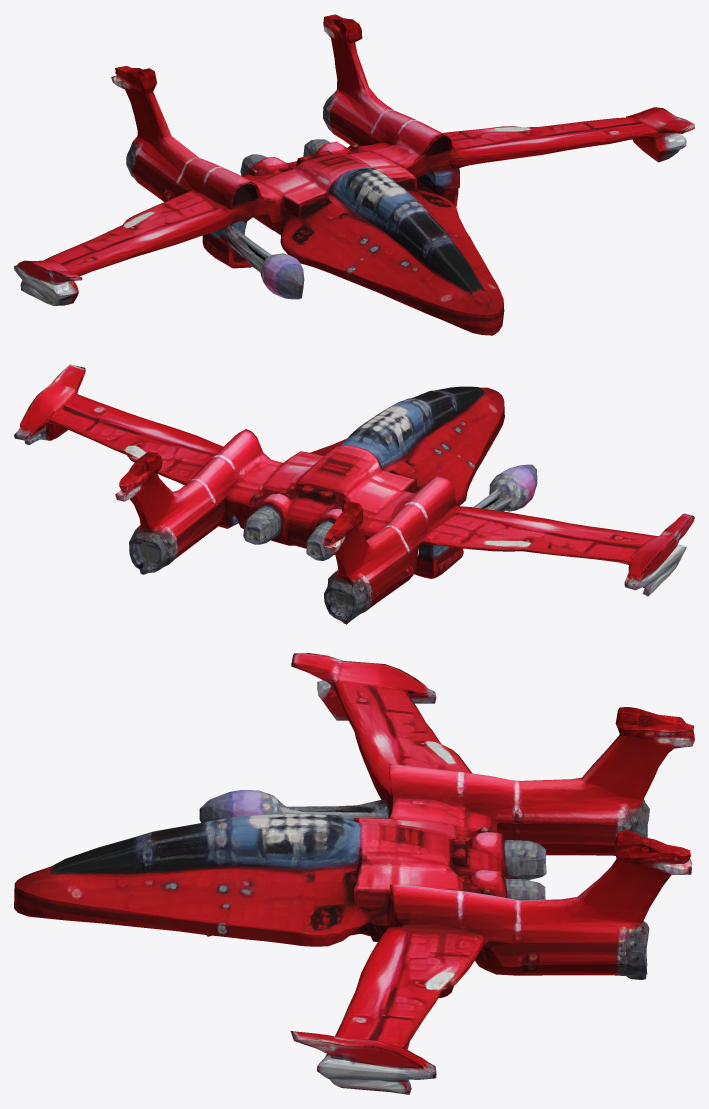
Rendered from Firefly Fighter.glb.
3 renders of one model, top to bottom at view 1: azimuth 30°, elevation 25°; view 2: azimuth 150°, elevation 25°; view 3: azimuth 270°, elevation 25°, orthographic. The views are drawn at different scales.
Parts seen in each view (by area): view 1: world; view 2: world; view 3: world.
Boxes of the visible parts, x1=… form: world: x1=14, y1=14, x2=694, y2=335; world: x1=14, y1=364, x2=694, y2=624; world: x1=14, y1=653, x2=694, y2=1094.
Size of the model in its own units: 1 by 0.1966 by 0.7471.
1 material, 1 textured.
